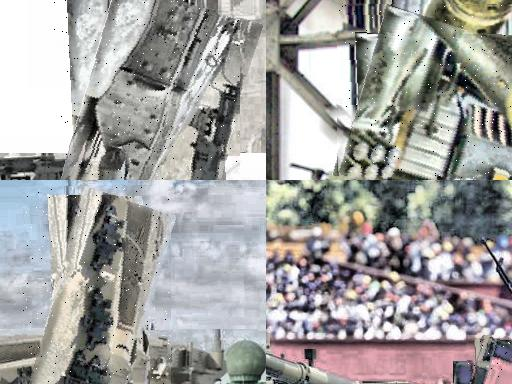tanks: (61, 1, 240, 181), (339, 6, 512, 181), (30, 188, 171, 384), (267, 354, 357, 384), (472, 337, 512, 384)
